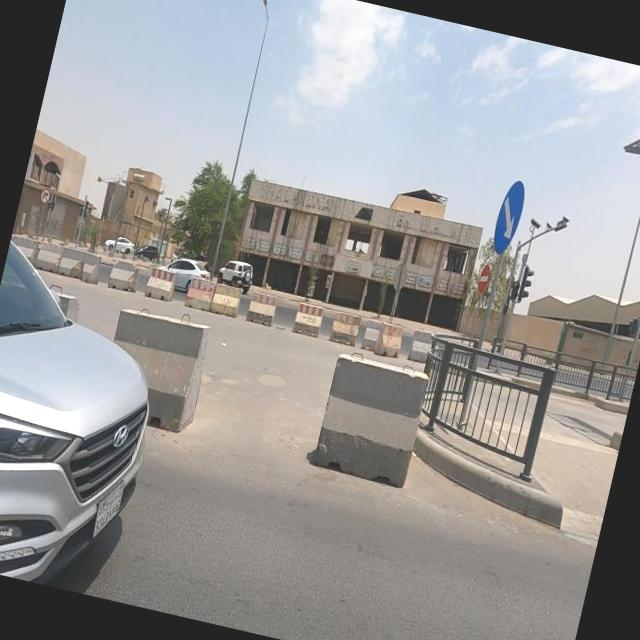debris: (214, 137, 392, 261)
